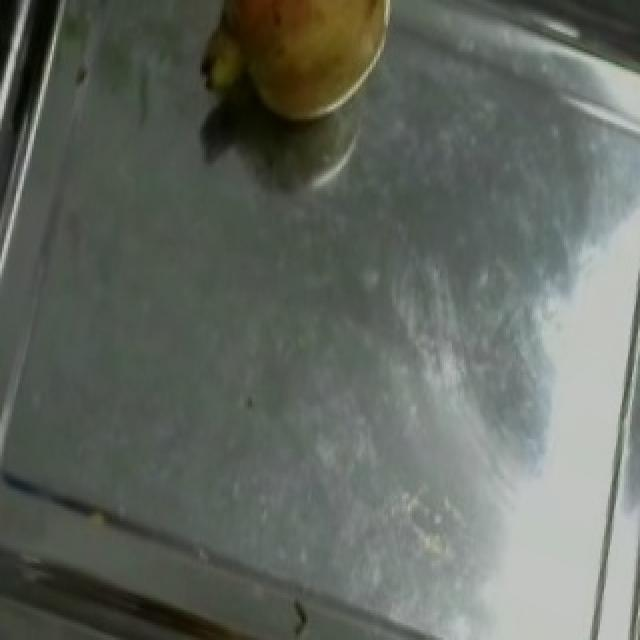fruit: (186, 2, 428, 149)
